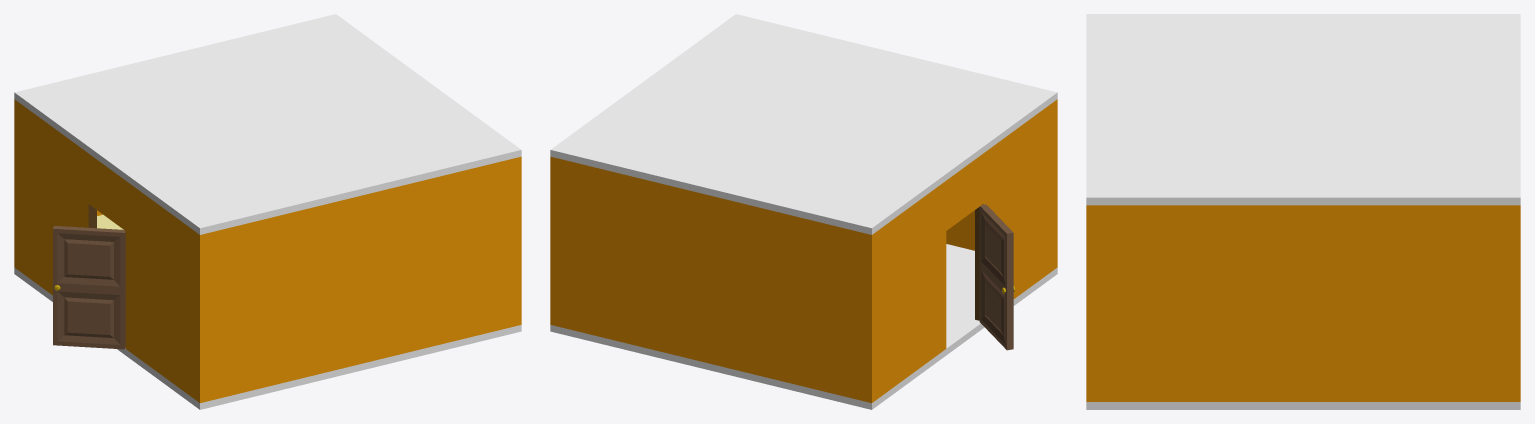
File: Room_3.glb
3 renders of one model, left to right at view 1: azimuth 30°, elevation 25°; view 2: azimuth 150°, elevation 25°; view 3: azimuth 270°, elevation 25°, orthographic. The views are drawn at different scales.
Parts seen in each view (by area): view 1: Room_3_Walls, Room_3_Roof, Room_3_Door, Room_3_Floor; view 2: Room_3_Walls, Room_3_Roof, Room_3_Floor, Room_3_Door; view 3: Room_3_Walls, Room_3_Roof, Room_3_Floor.
Boxes of the visible parts, box(x1,y1,x2,y2) form: Room_3_Walls: box(14, 99, 521, 402); Room_3_Roof: box(14, 14, 521, 234); Room_3_Door: box(53, 225, 125, 349); Room_3_Floor: box(14, 267, 521, 409); Room_3_Walls: box(550, 99, 1057, 402); Room_3_Roof: box(550, 14, 1057, 234); Room_3_Floor: box(550, 244, 1057, 409); Room_3_Door: box(979, 204, 1015, 350); Room_3_Walls: box(1086, 205, 1520, 401); Room_3_Roof: box(1086, 14, 1520, 205); Room_3_Floor: box(1086, 402, 1520, 409).
Size of what is drawn, in the model's own units: 5.8 by 2.7 by 5.
3 materials, 2 textured.
